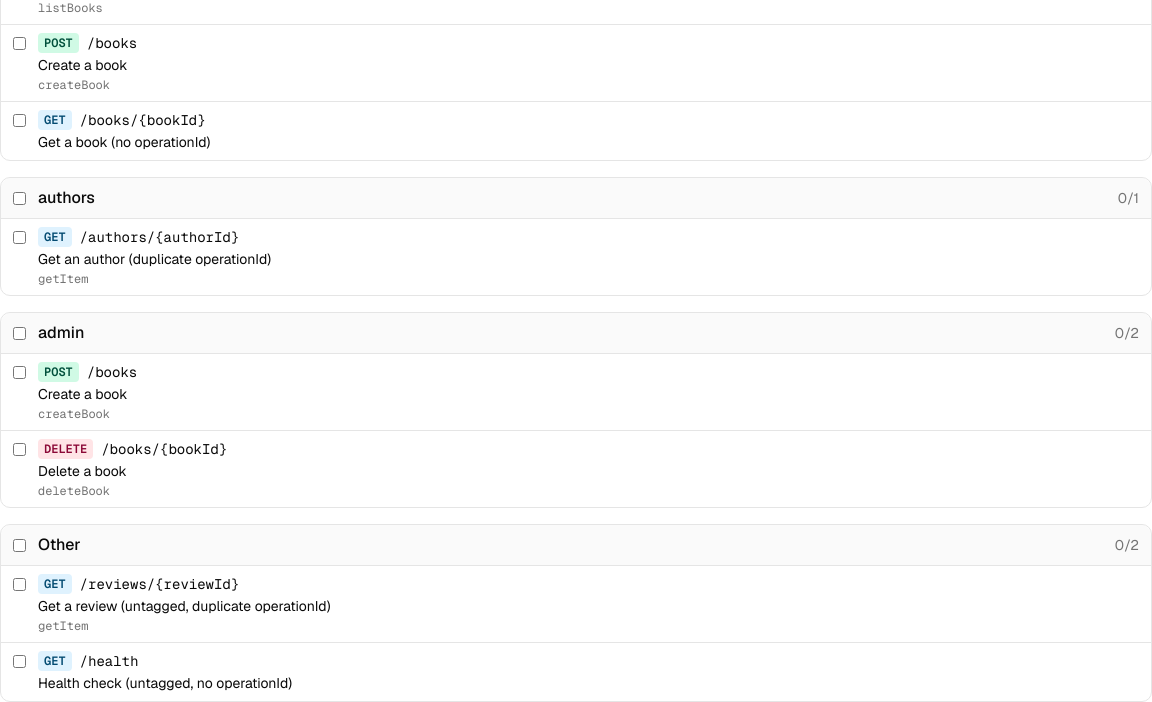
OperationSelector › filters by path, summary, or operationId and keeps the selection
The width and height of the screenshot is (1152, 702).
(page scrolled)
Click the checkbox labelled "get /health Health check (untagged, no operationId)" at (20, 662), box [13,655,26,668]
(page scrolled)
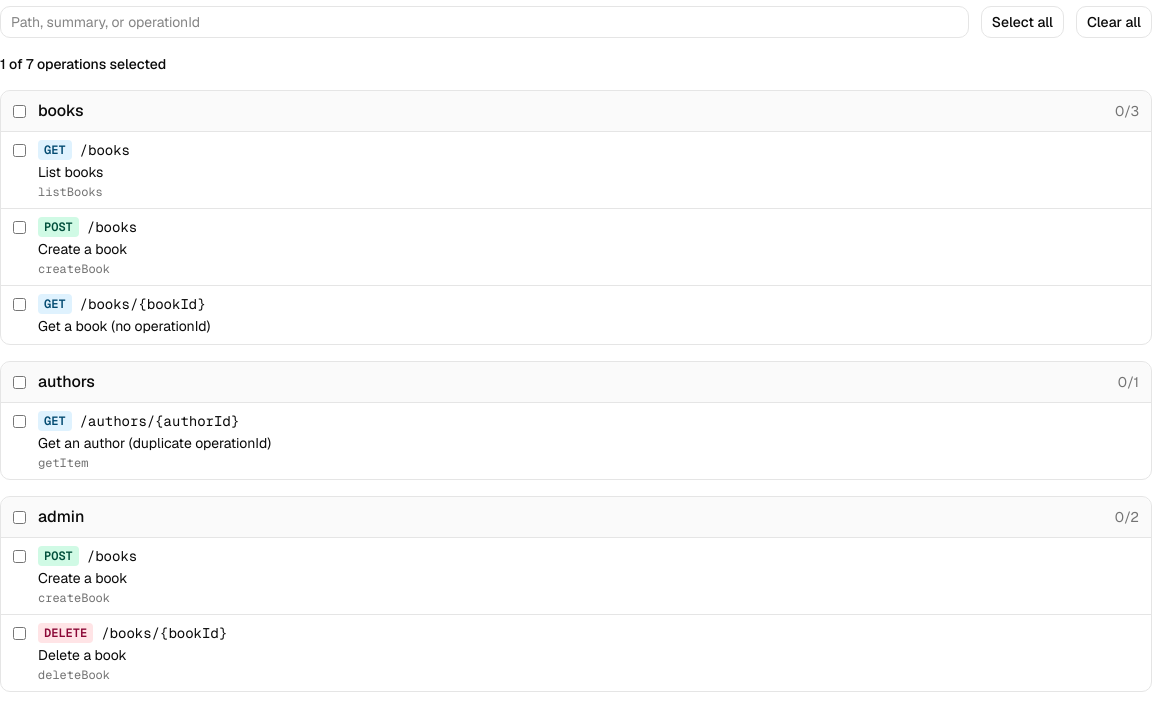
Type "createbook" into the search field labelled "Search operations" at (484, 22), box [0,6,969,38]
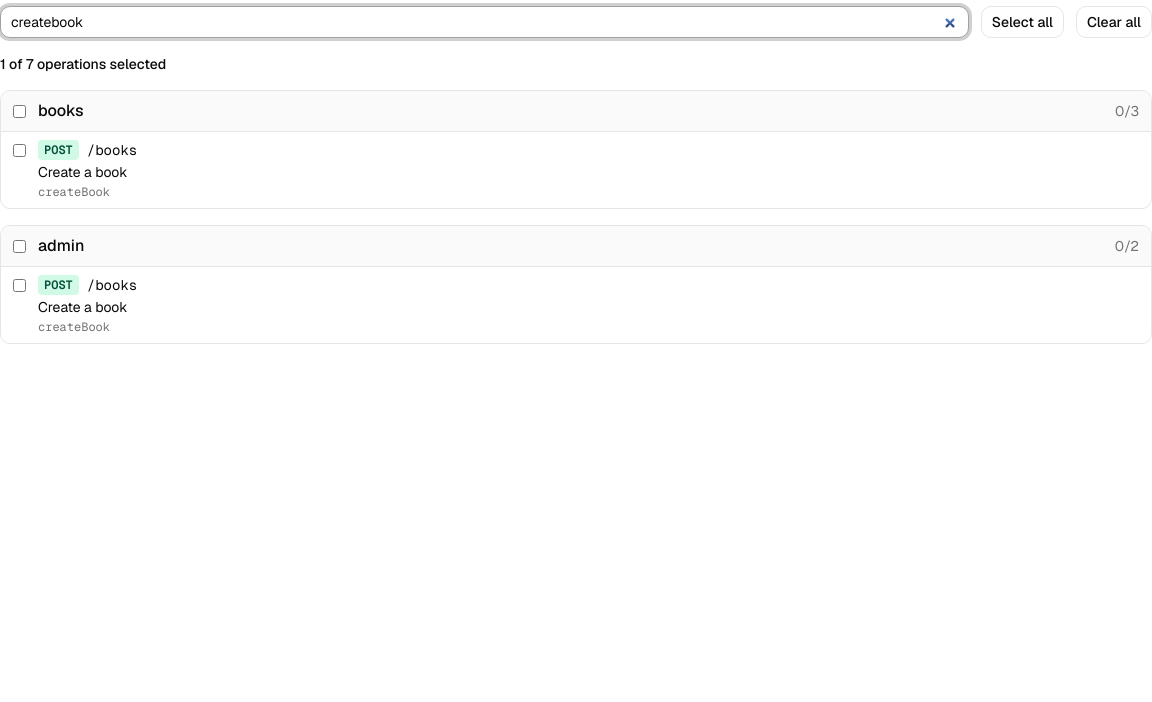
Result: the checkbox labelled "get /books" is gone
Replace the text in the search field labelled "Search operations" with "review" at (484, 22), box [0,6,969,38]
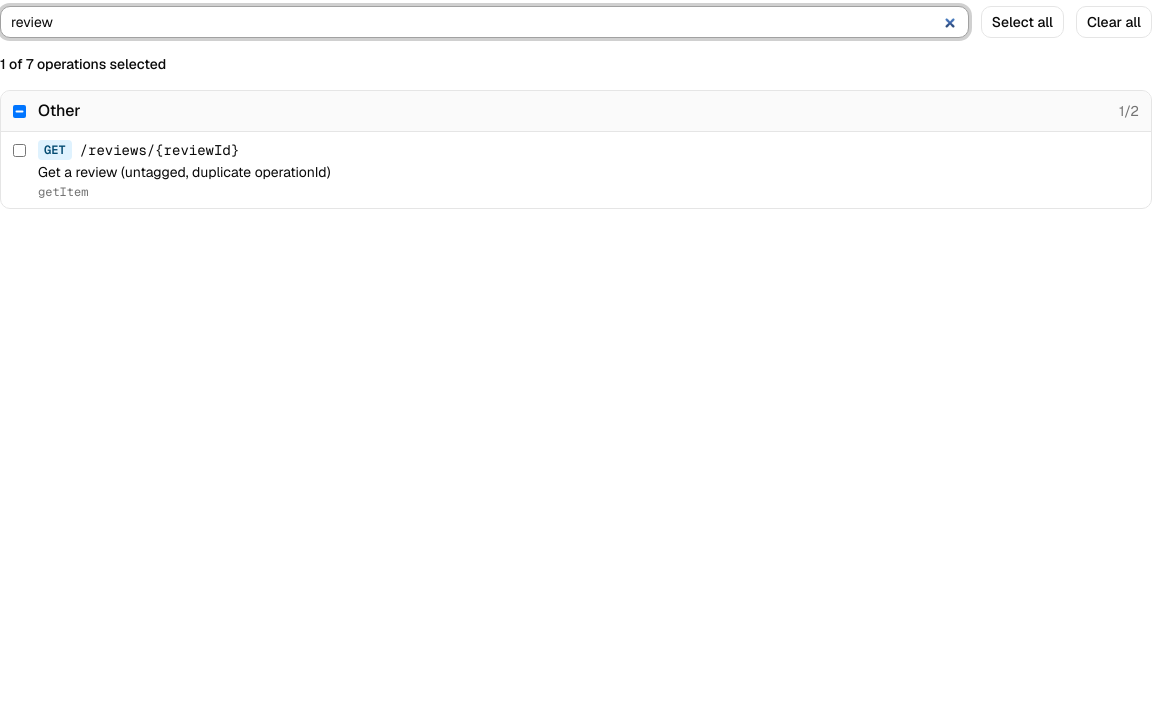
Expected: the number of checkboxes labelled "reviews" is 1, [13,144,26,157]
Result: the label "books" is gone
Replace the text in the search field labelled "Search operations" with "no such thing" at (484, 22), box [0,6,969,38]
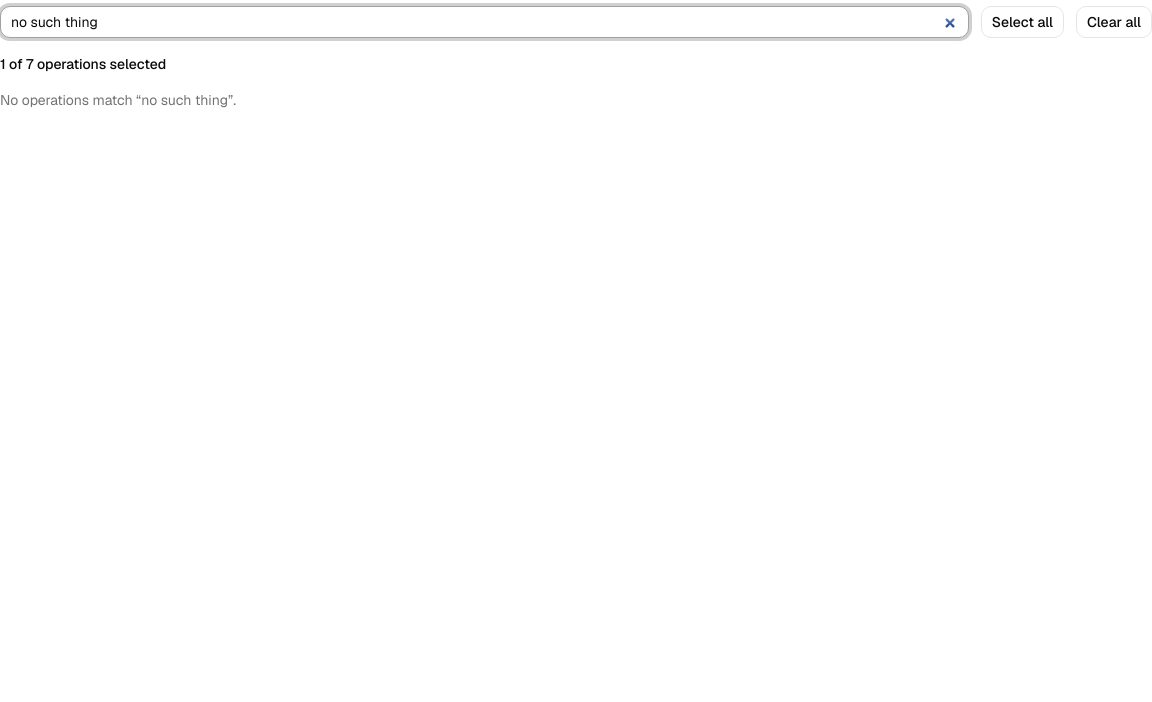
Result: the message reads "1 of 7 operations selected" at [0,55,166,73]
Result: the text "No operations match “no such thing”." is shown at [0,91,236,109]
